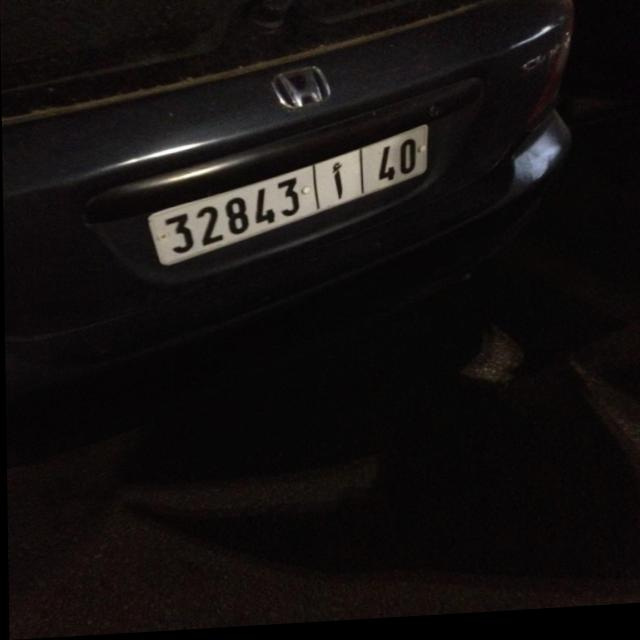License-Plate: (148, 130, 427, 268)
